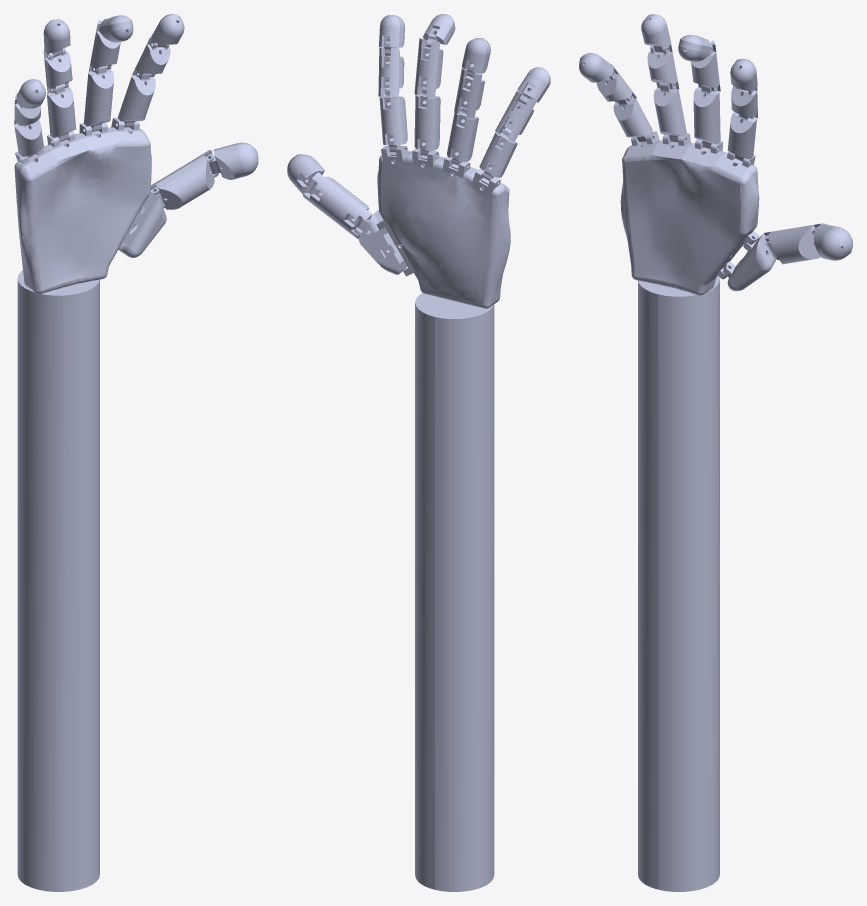
The model's file is result-transformed.glb.
3 renders of one model, left to right at view 1: azimuth 30°, elevation 25°; view 2: azimuth 150°, elevation 25°; view 3: azimuth 330°, elevation 25°, orthographic. The views are drawn at different scales.
Parts seen in each view (by area): view 1: nodes[0]; view 2: nodes[0]; view 3: nodes[0].
Part boxes in pixels (left/top/right/bottom): nodes[0]: left=14, top=14, right=258, bottom=891; nodes[0]: left=287, top=14, right=550, bottom=891; nodes[0]: left=579, top=14, right=852, bottom=891.
Size of the model in its own units: 178 by 582 by 70.63.
